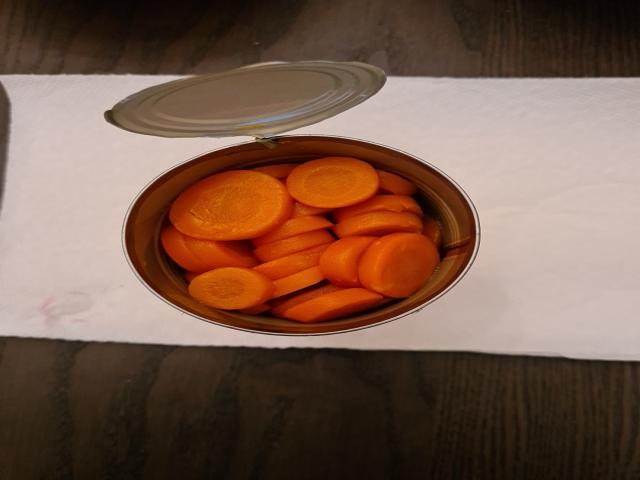kichen waste: (162, 158, 437, 320)
